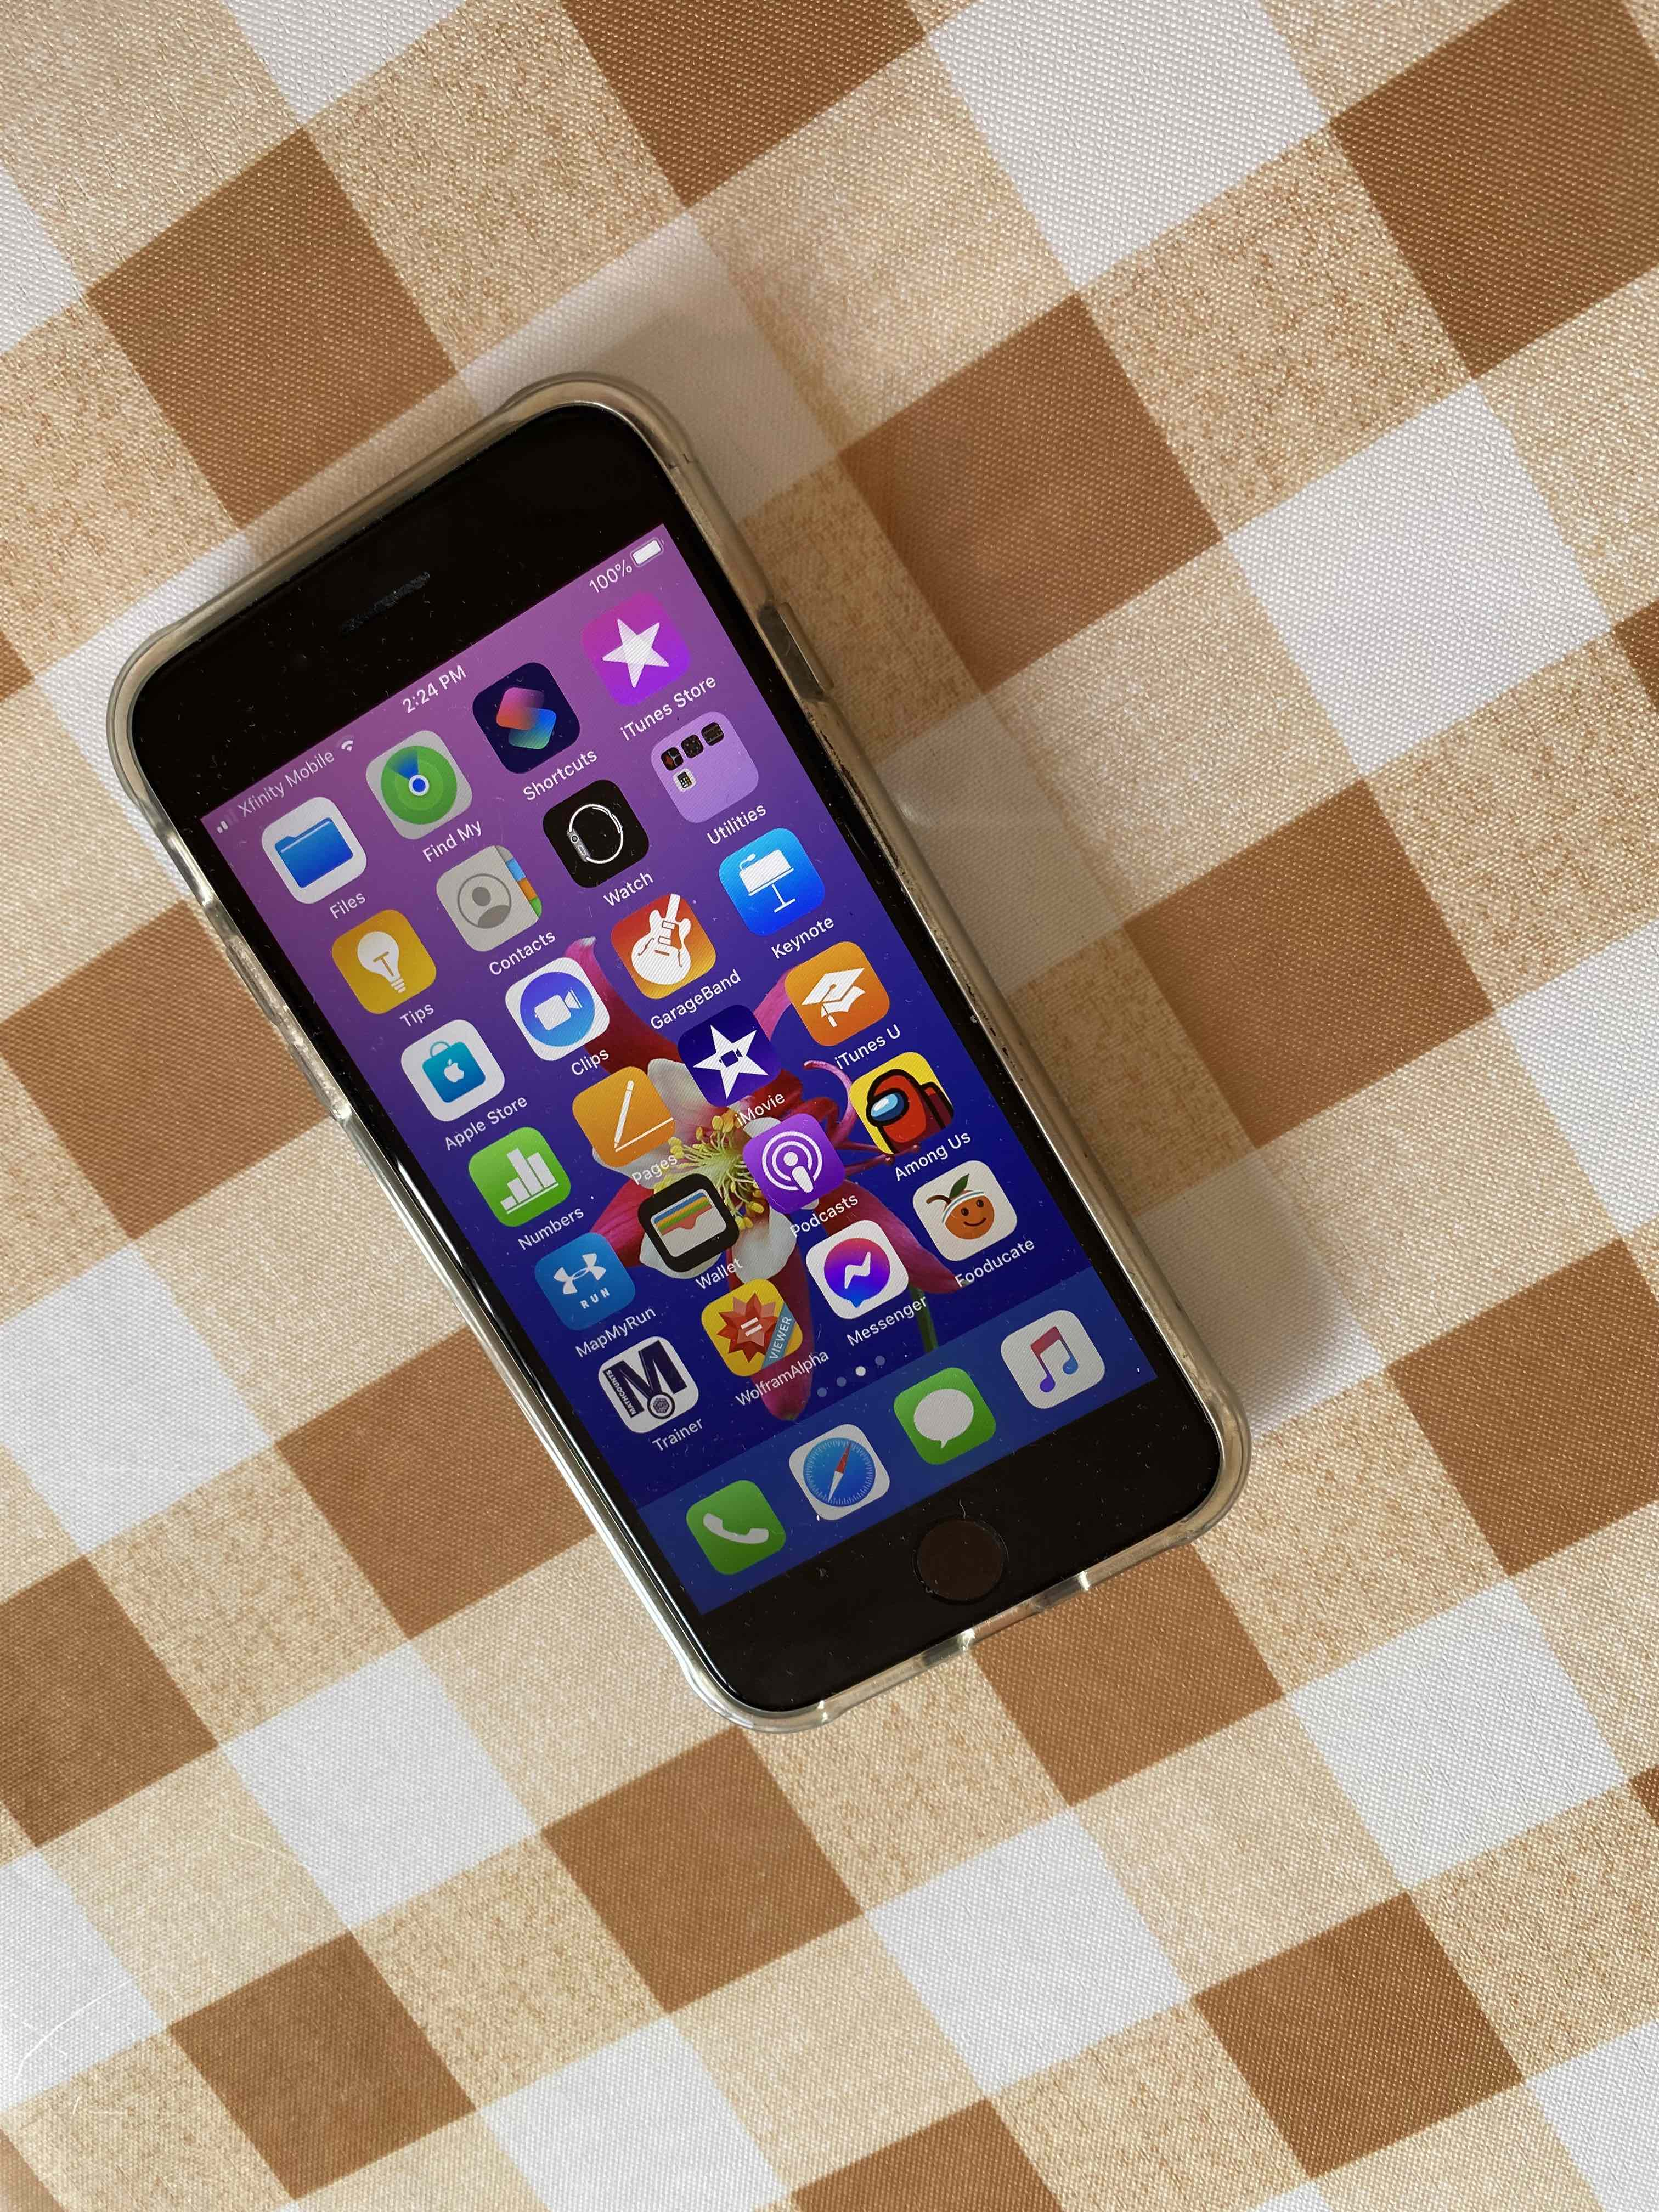Cell Phone: (110, 374, 1251, 1716)
